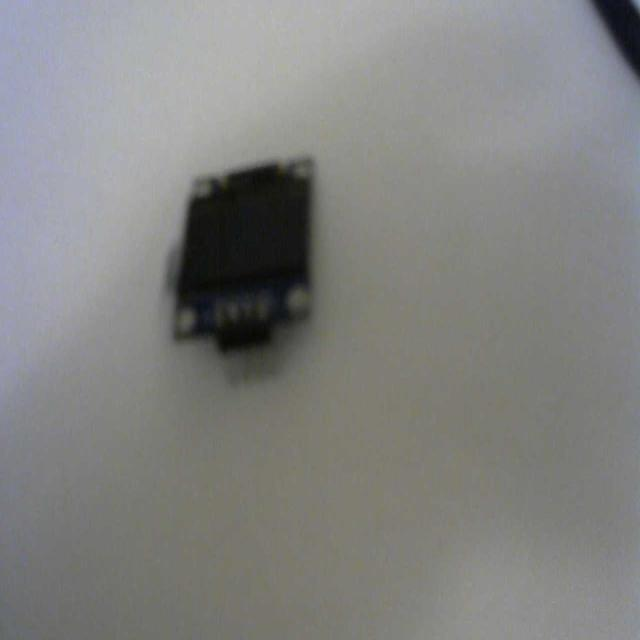oled: (159, 151, 322, 389)
